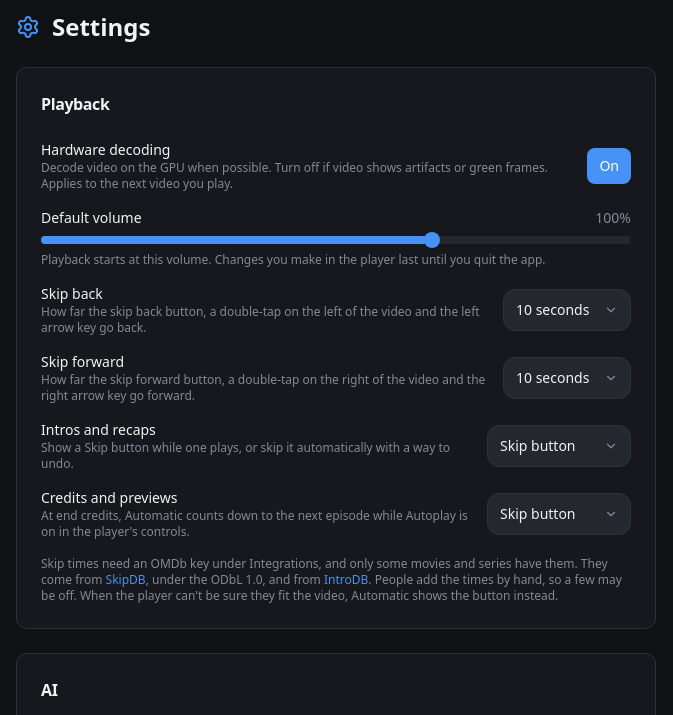
Test: Settings playback › saves how intros and credits are skipped
Expected: the button with aria-label "Credits and previews" reads "Skip button", [487, 493, 631, 535]
Step 1. Click the button with aria-label "Intros and recaps" → (559, 446), box [487, 425, 631, 467]
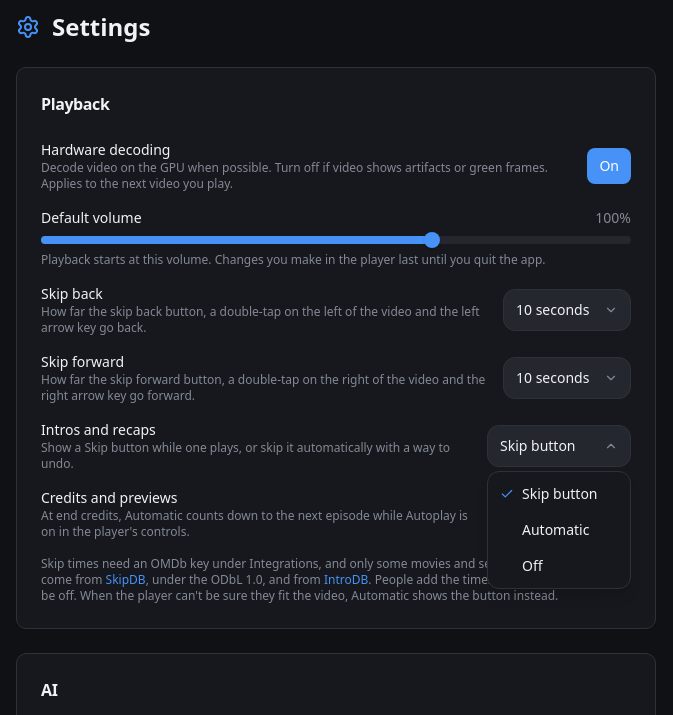
Step 2. Click the option "Automatic" → (556, 530), box [522, 520, 590, 539]
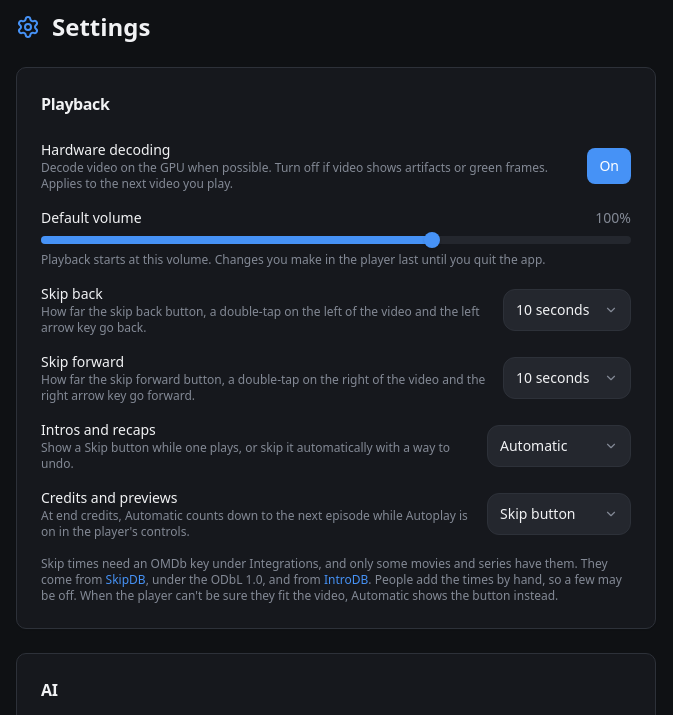
Expected: the button with aria-label "Intros and recaps" reads "Automatic", [487, 425, 631, 467]
Step 3. Click the button with aria-label "Credits and previews" → (559, 514), box [487, 493, 631, 535]
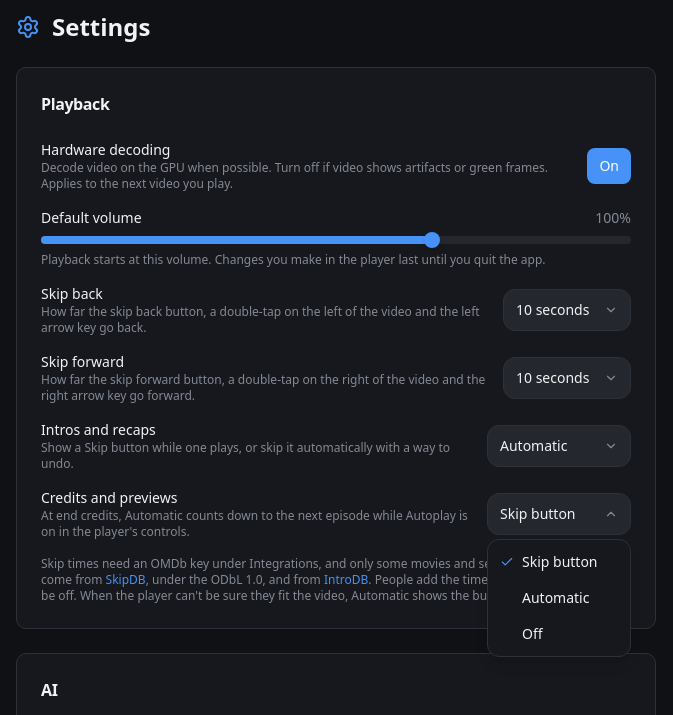
Step 4. Click the option "Off" → (532, 634), box [522, 624, 543, 643]
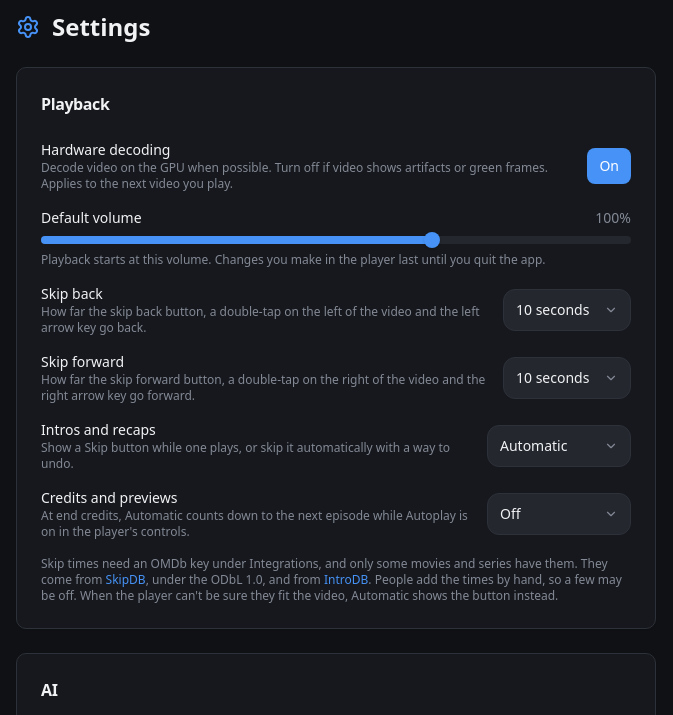
Expected: the button with aria-label "Intros and recaps" reads "Automatic", [487, 425, 631, 467]
Expected: the button with aria-label "Credits and previews" reads "Off", [487, 493, 631, 535]
